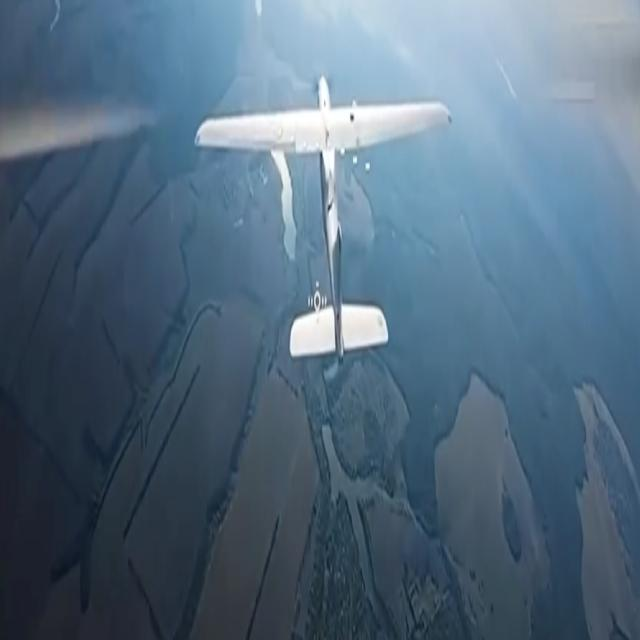vehicle: (195, 72, 452, 361)
